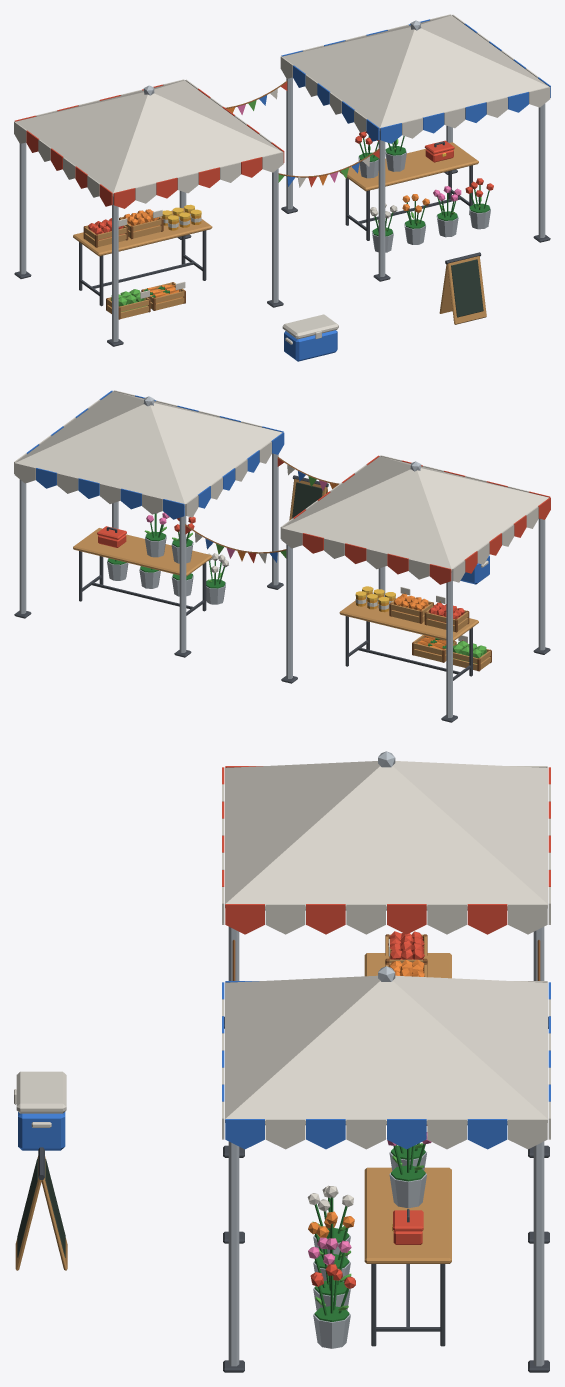
Rendered from street-market-tents.glb.
3 views of the same model, one above another, from view 1: azimuth 30°, elevation 25°; view 2: azimuth 150°, elevation 25°; view 3: azimuth 270°, elevation 25° (orthographic). The views are drawn at different scales.
Visible parts, largest first — view 1: Tent_Produce_Canopy, Tent_Flowers_Canopy, Tent_Flowers_Valance, Tent_Produce_Valance, FlowerBuckets, Tent_Flowers_Poles, Tent_Produce_Poles, Tent_Flowers_Table, Tent_Produce_Table, Chalkboard_Stand, Cooler_Body, Bunting (+6 smaller); view 2: Tent_Produce_Canopy, Tent_Flowers_Canopy, Tent_Flowers_Valance, Tent_Produce_Valance, Tent_Flowers_Poles, Tent_Produce_Poles, Tent_Flowers_Table, FlowerBuckets, Tent_Produce_Table, Bunting, Crate_Oranges, Chalkboard_Stand (+5 smaller); view 3: Tent_Flowers_Canopy, Tent_Produce_Canopy, Tent_Produce_Valance, Tent_Flowers_Valance, Tent_Flowers_Table, FlowerBuckets, Tent_Flowers_Poles, Chalkboard_Stand, Cooler_Lid, Cooler_Body, Tent_Produce_Poles, Crate_Apples (+1 smaller).
Boxes of the visible parts, x1,y1,x2,y2 form: Tent_Produce_Canopy: (16, 80, 282, 196); Tent_Flowers_Canopy: (282, 15, 548, 130); Tent_Flowers_Valance: (280, 14, 550, 143); Tent_Produce_Valance: (14, 79, 284, 208); FlowerBuckets: (355, 131, 493, 252); Tent_Flowers_Poles: (281, 77, 550, 281); Tent_Produce_Poles: (14, 142, 283, 346); Tent_Flowers_Table: (339, 142, 478, 240); Tent_Produce_Table: (73, 208, 212, 306); Chalkboard_Stand: (439, 252, 486, 324); Cooler_Body: (284, 330, 337, 361); Bunting: (225, 80, 379, 187); Tent_Produce_Canopy: (282, 456, 548, 572); Tent_Flowers_Canopy: (16, 391, 282, 506); Tent_Flowers_Valance: (14, 390, 284, 519); Tent_Produce_Valance: (280, 455, 550, 584); Tent_Flowers_Poles: (14, 453, 283, 657); Tent_Produce_Poles: (281, 518, 550, 722); Tent_Flowers_Table: (73, 528, 212, 615); FlowerBuckets: (107, 512, 228, 604); Tent_Produce_Table: (339, 600, 478, 680); Bunting: (185, 456, 339, 563); Crate_Oranges: (389, 587, 433, 623); Chalkboard_Stand: (289, 475, 328, 520); Tent_Flowers_Canopy: (225, 966, 547, 1125); Tent_Produce_Canopy: (225, 751, 547, 910); Tent_Produce_Valance: (222, 766, 550, 934); Tent_Flowers_Valance: (222, 981, 550, 1149); Tent_Flowers_Table: (364, 1167, 451, 1346); FlowerBuckets: (307, 1125, 431, 1348); Tent_Flowers_Poles: (223, 1141, 549, 1372); Chalkboard_Stand: (15, 1147, 67, 1270); Cooler_Lid: (14, 1071, 66, 1113); Cooler_Body: (18, 1112, 65, 1150); Tent_Produce_Poles: (223, 927, 549, 1157); Crate_Apples: (385, 931, 427, 963).
Bounding box in the file's own units: 23.06 × 10.28 × 14.79.
